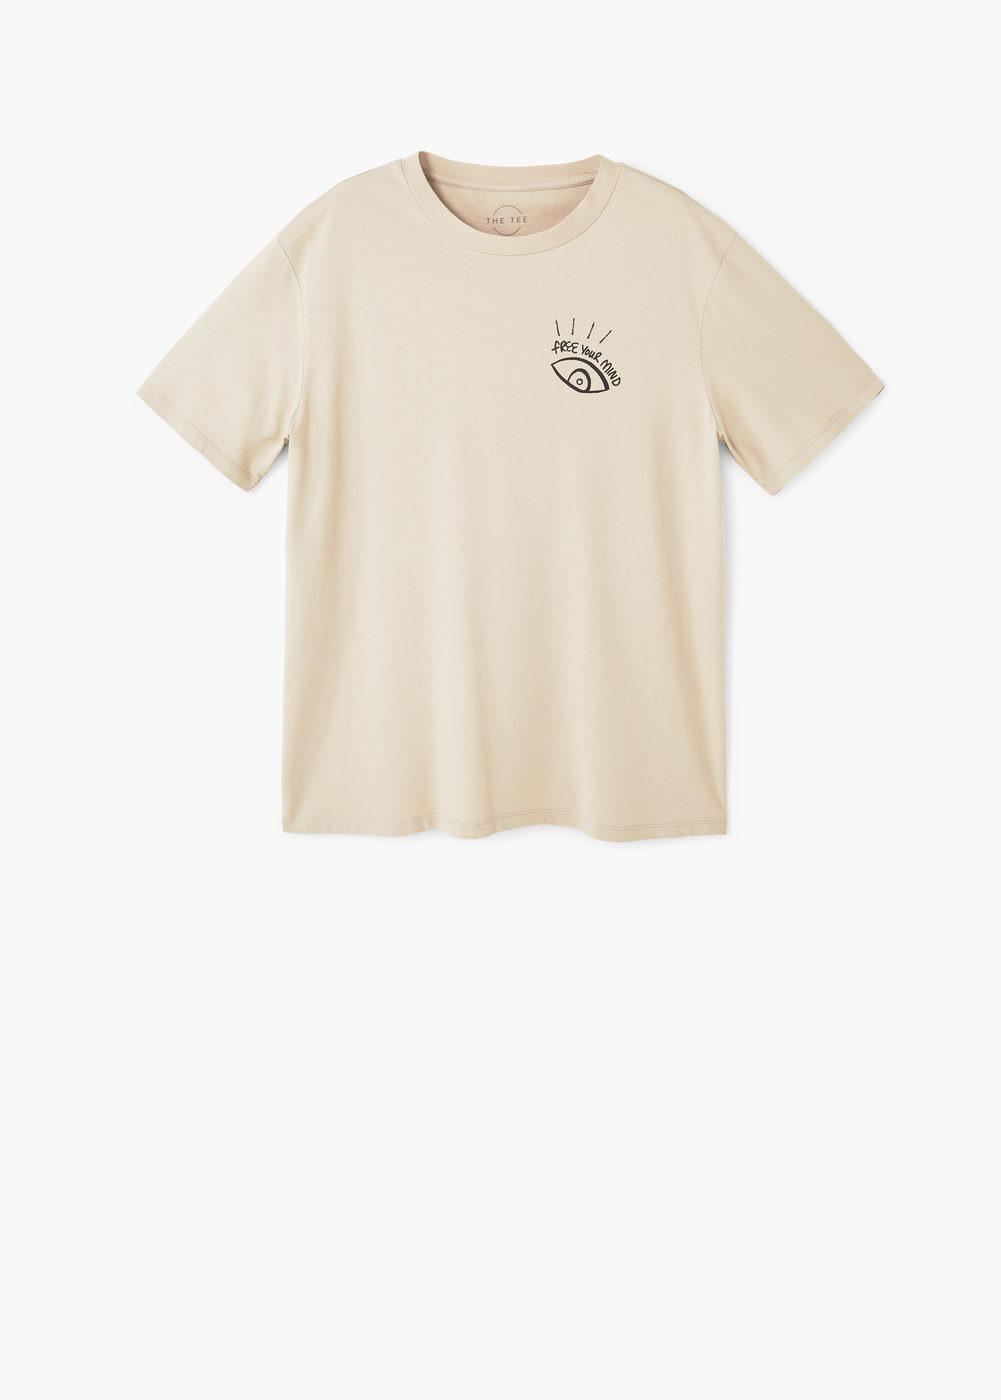teeshirt: (125, 133, 897, 865)
